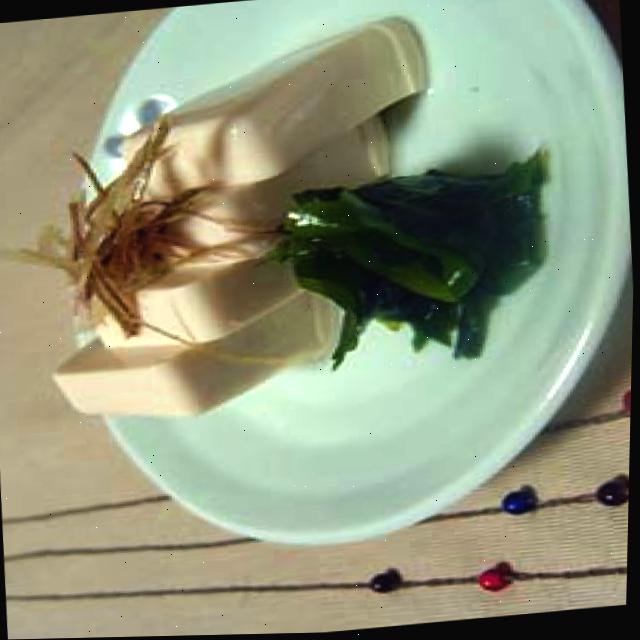豆腐料理: (0, 6, 566, 439)
